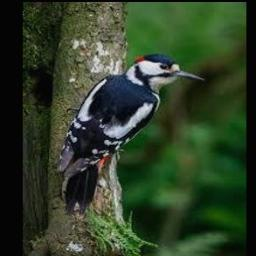Woodpecker: (56, 54, 204, 214)
